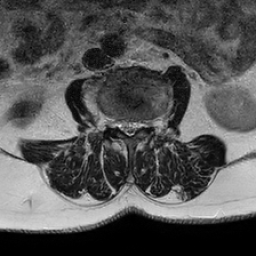CCS_stenosis: (126, 112, 133, 146)
LFS_normal: (141, 110, 152, 136)
LLS_normal: (133, 112, 141, 137)
RFS_normal: (109, 108, 118, 137)
RLS_normal: (118, 113, 126, 139)
